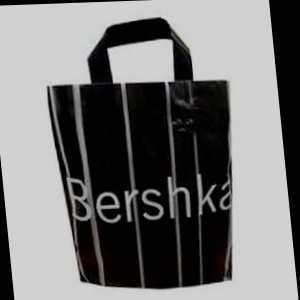bershka: (192, 81, 267, 251)
